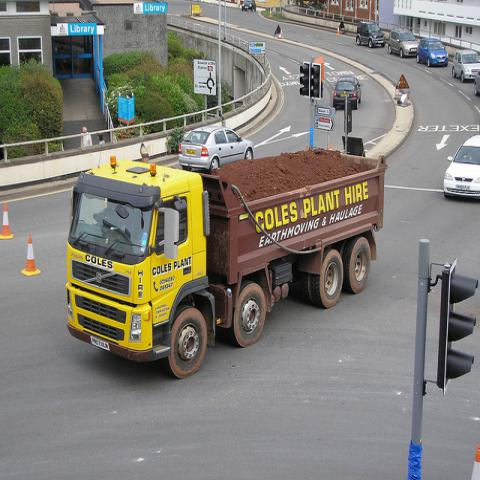car: (178, 126, 255, 172), (442, 133, 480, 201), (332, 75, 364, 111), (450, 50, 480, 84), (416, 37, 448, 67), (388, 28, 419, 58), (356, 21, 387, 49), (242, 0, 256, 12), (474, 72, 479, 96)
truck: (61, 144, 386, 380)
